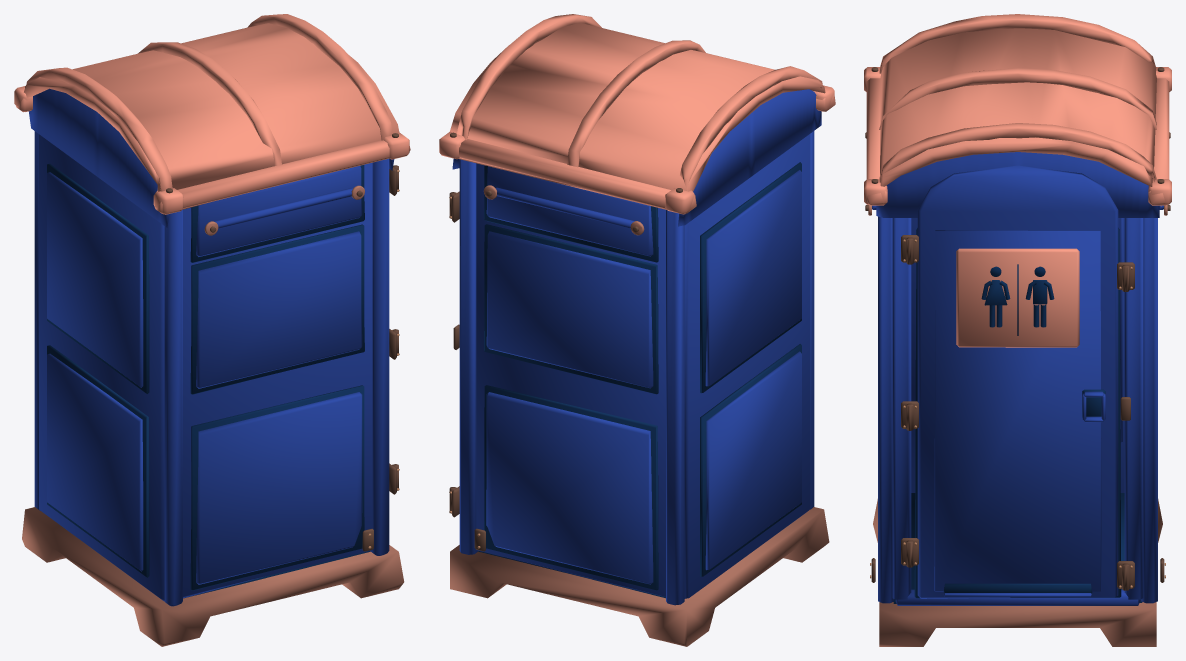
The model's file is prop.porta-potty.lod1.glb.
3 views of the same model, side by side, from view 1: azimuth 30°, elevation 25°; view 2: azimuth 150°, elevation 25°; view 3: azimuth 270°, elevation 25° (orthographic).
Visible parts, largest first — view 1: body, object 2; view 2: body, object 2; view 3: object 2, body.
Boxes of the visible parts, left/top/right/bottom form: body: left=28, top=88, right=394, bottom=606; object 2: left=14, top=14, right=410, bottom=646; body: left=452, top=89, right=821, bottom=605; object 2: left=439, top=14, right=835, bottom=646; object 2: left=864, top=14, right=1171, bottom=646; body: left=872, top=152, right=1163, bottom=605.
Bounding box in the file's own units: 1.31 × 2.45 × 1.33.
